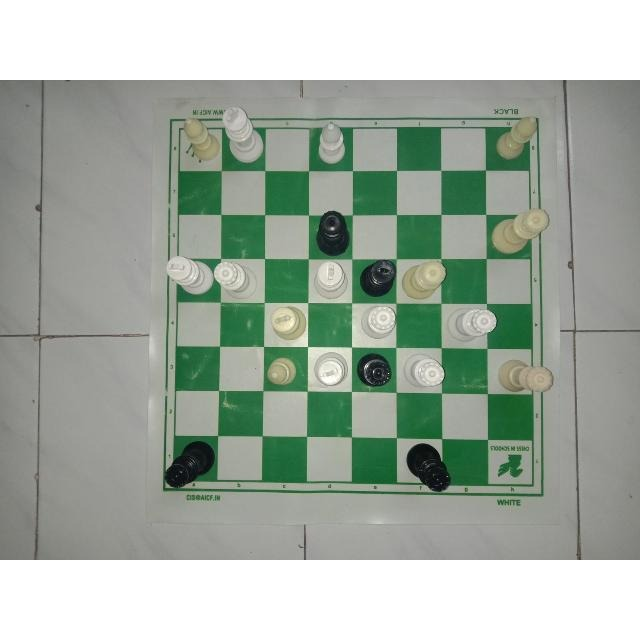black-king: (353, 257, 396, 299)
black-queen: (163, 438, 219, 492), (403, 438, 455, 496), (312, 207, 353, 258), (355, 349, 390, 387)
white-bishop: (488, 116, 540, 164), (309, 120, 351, 170), (181, 116, 221, 164), (264, 351, 303, 387)
white-king: (220, 104, 264, 164), (164, 255, 214, 295), (265, 303, 307, 341), (311, 350, 348, 389), (312, 260, 348, 300)
white-queen: (489, 207, 551, 257), (495, 356, 557, 395), (400, 259, 448, 303), (445, 305, 498, 344), (399, 350, 449, 389), (213, 260, 259, 300), (360, 303, 396, 341)
